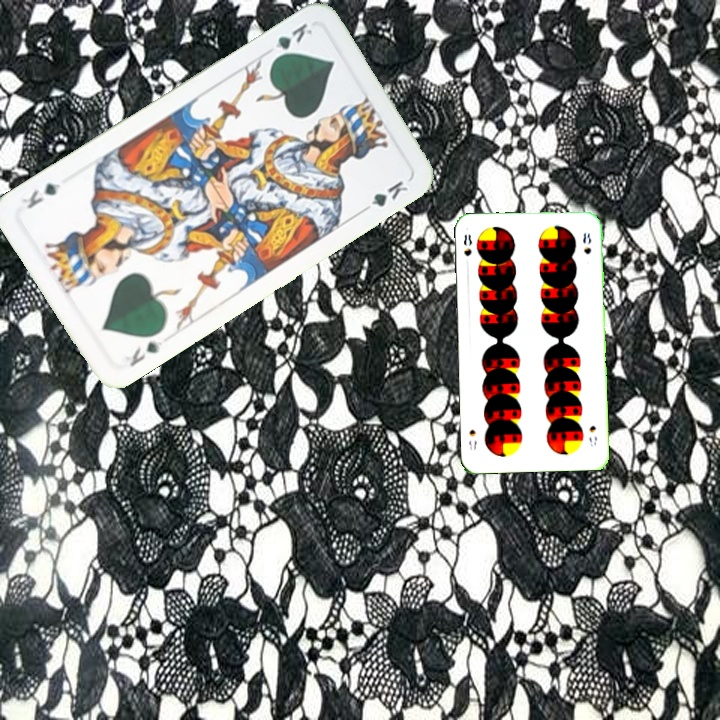GK: (267, 18, 315, 64), (125, 336, 166, 370)
S8: (460, 230, 474, 269), (585, 422, 600, 449)
